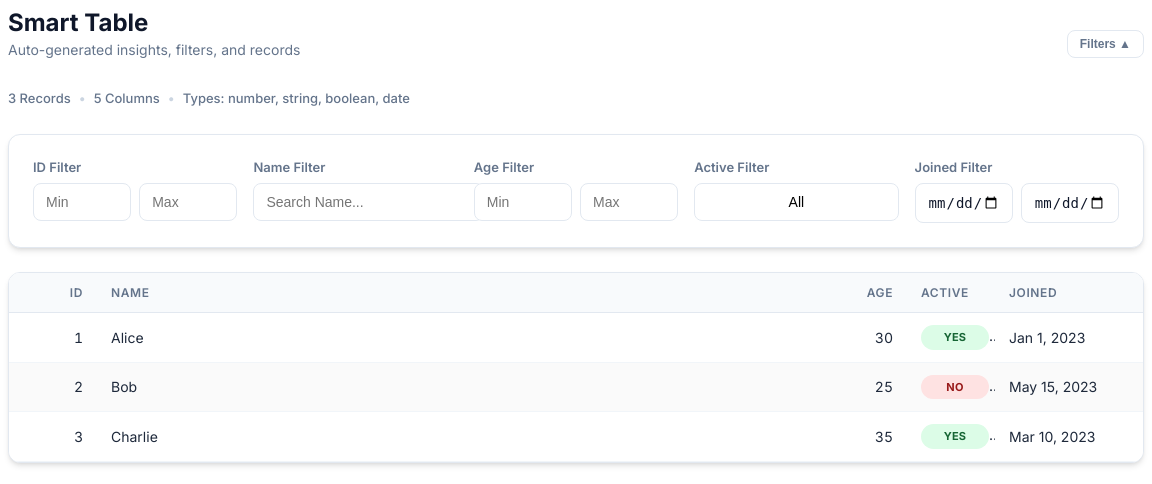
Test: Phase 3: Filters and Sorting Integration › filters data based on string input
The image size is (1152, 484).
Expected: the number of rows is 4, top-left (9, 273), bottom-right (1143, 313); top-left (9, 313), bottom-right (1143, 362); top-left (9, 362), bottom-right (1143, 412); top-left (9, 412), bottom-right (1143, 462)
Type "Ali" into the field with placeholder "Search Name..." at (369, 202), box top-left (253, 183), bottom-right (484, 221)
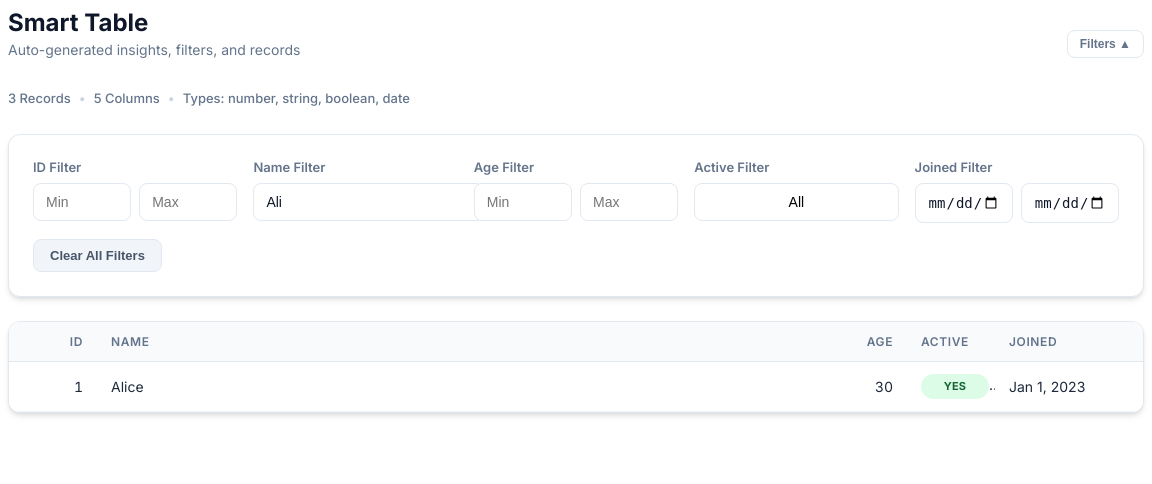
Expected: the number of rows is 2, top-left (9, 322), bottom-right (1143, 362); top-left (9, 362), bottom-right (1143, 412)
Now the text "Bob" is gone
